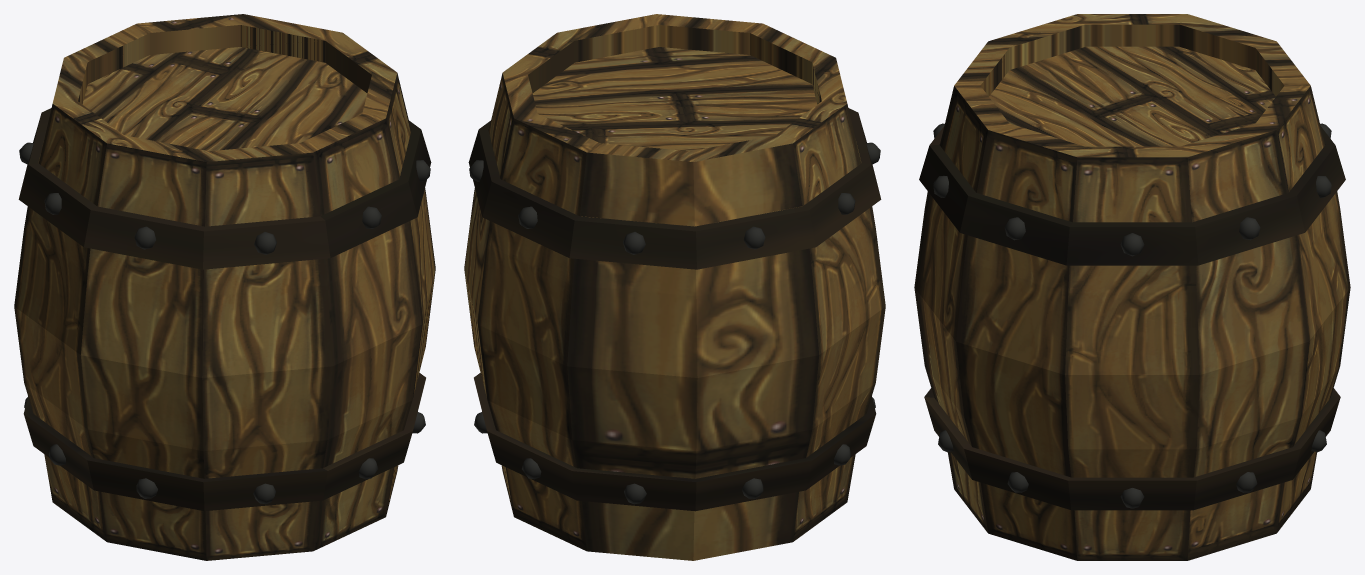
File: barriljogoountitled.fbx
3 views of the same model, side by side, from view 1: azimuth 30°, elevation 25°; view 2: azimuth 150°, elevation 25°; view 3: azimuth 270°, elevation 25° (orthographic).
Visible parts, largest first — view 1: Cilindro, Cilindro.001, Sphere.001, Sphere.009, Sphere.008; view 2: Cilindro, Cilindro.001, Sphere.001, Sphere.003, Sphere.002, Sphere.004; view 3: Cilindro, Cilindro.001, Sphere.006, Sphere.005, Sphere.007, Sphere.004, Sphere.008.
Part boxes in pixels (box(x1,y1,x2,y2)): Cilindro: box(14, 14, 435, 560); Cilindro.001: box(18, 108, 431, 269); Sphere.001: box(44, 193, 157, 498); Sphere.009: box(253, 232, 276, 504); Sphere.008: box(358, 206, 381, 479); Cilindro: box(464, 14, 885, 560); Cilindro.001: box(468, 108, 881, 269); Sphere.001: box(834, 142, 880, 465); Sphere.003: box(623, 232, 646, 504); Sphere.002: box(742, 226, 765, 498); Sphere.004: box(518, 206, 541, 479); Cilindro: box(914, 14, 1350, 560); Cilindro.001: box(919, 126, 1345, 265); Sphere.006: box(1120, 233, 1144, 508); Sphere.005: box(1236, 217, 1260, 492); Sphere.007: box(1004, 217, 1028, 492); Sphere.004: box(1311, 175, 1331, 451); Sphere.008: box(933, 175, 953, 451).
Size of the model in its own units: 235 by 250 by 245.
Materials: 2 (1 with a texture image).
